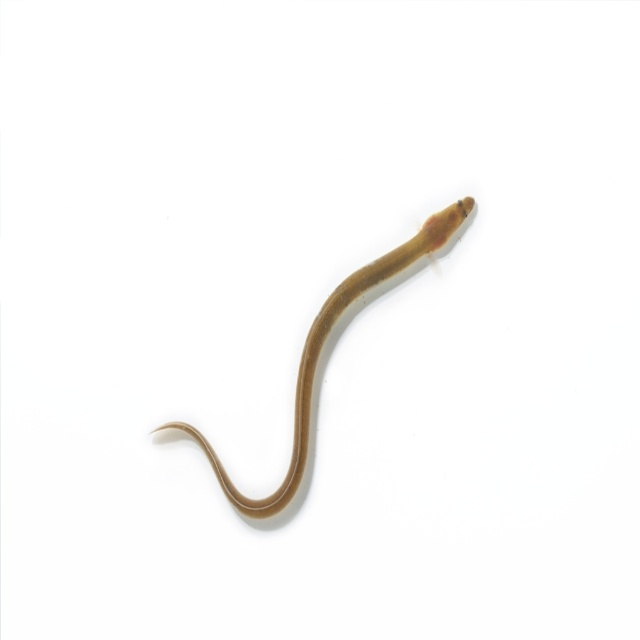Snake: (149, 191, 476, 519)
